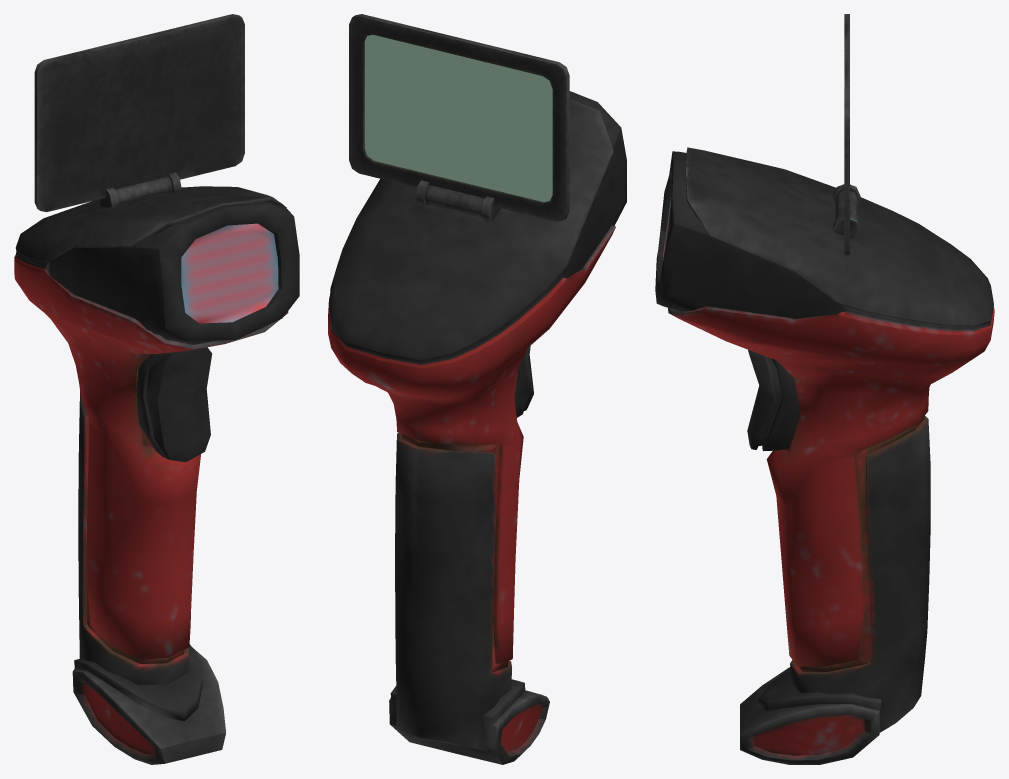
Rendered from scan.fbx.
3 views of the same model, side by side, from view 1: azimuth 30°, elevation 25°; view 2: azimuth 150°, elevation 25°; view 3: azimuth 270°, elevation 25° (orthographic). The views are drawn at different scales.
Parts seen in each view (by area): view 1: scan; view 2: scan; view 3: scan.
Part boxes in pixels (bbox=[...]): scan: bbox=[14, 14, 299, 764]; scan: bbox=[328, 14, 626, 764]; scan: bbox=[655, 14, 994, 764].
Size of the model in its own units: 0.0941 by 0.3 by 0.134.
